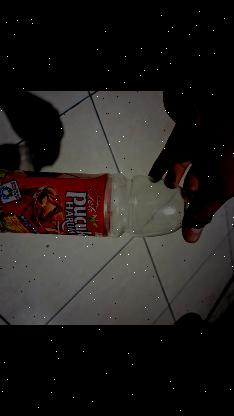Plastic Bottle: (0, 170, 206, 236)
